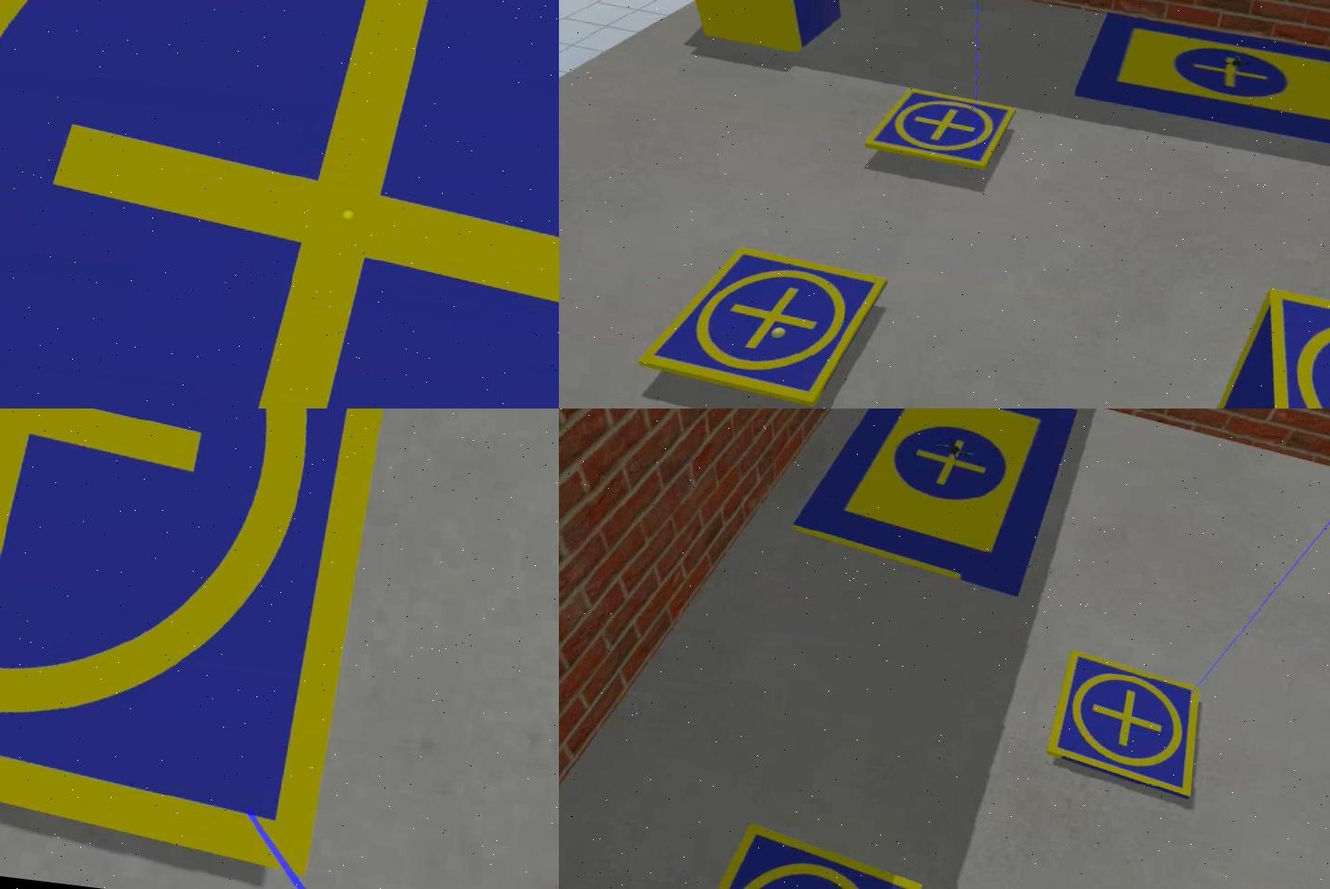large_base: (790, 409, 1080, 604), (1068, 7, 1328, 154)
small_base: (0, 1, 558, 409), (0, 409, 429, 887), (631, 232, 892, 409), (1044, 650, 1217, 800), (648, 817, 926, 889), (861, 82, 1015, 174)
